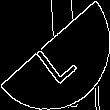L_NW: (29, 25, 81, 85)
